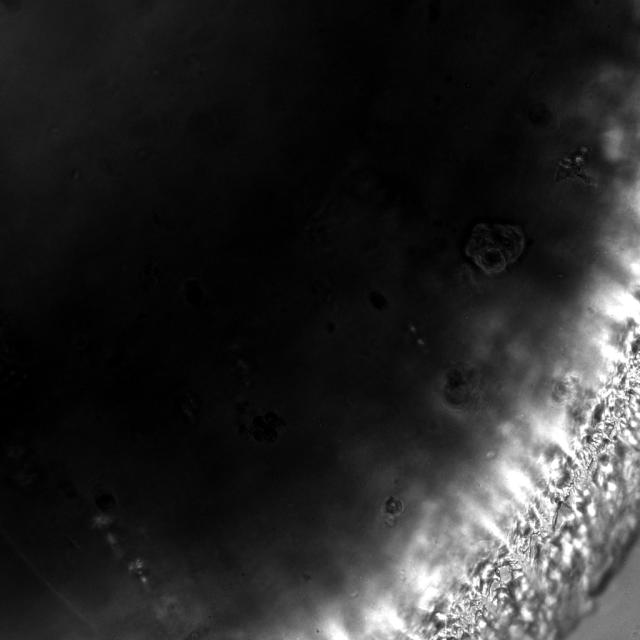organoid: (466, 223, 524, 274), (92, 513, 125, 560), (442, 366, 478, 407), (554, 145, 589, 183), (126, 557, 149, 586), (385, 496, 402, 515)
